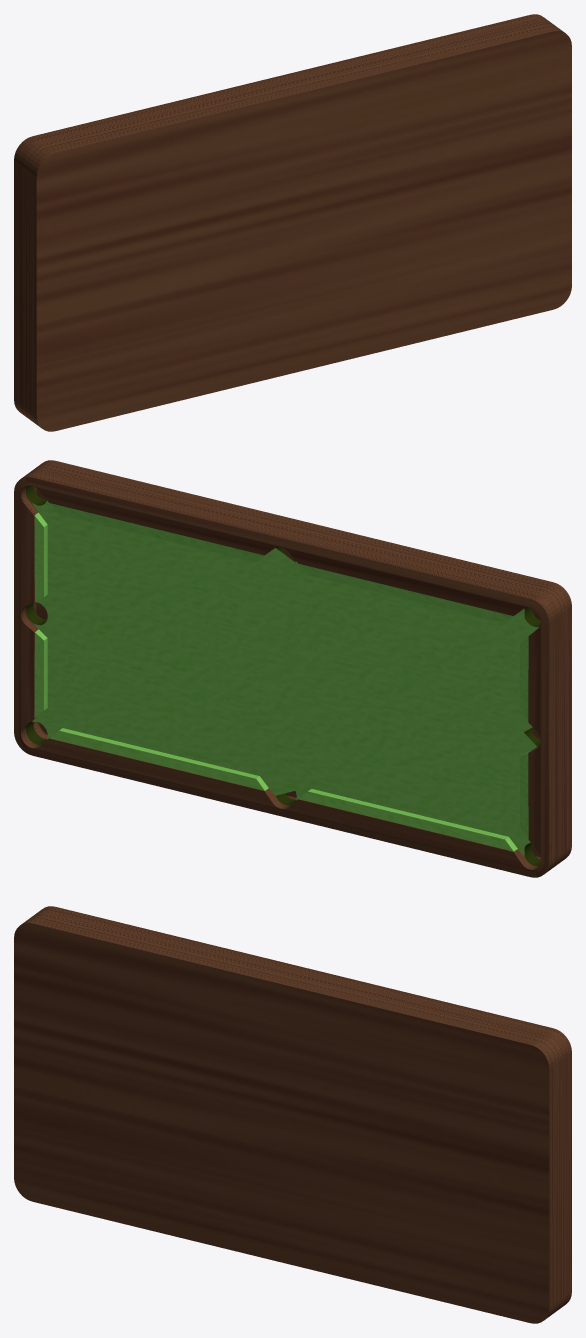
Rendered from Billiard_Table_10_28fbx.fbx.
The picture shows the model from 3 angles, top to bottom: view 1: azimuth 30°, elevation 25°; view 2: azimuth 150°, elevation 25°; view 3: azimuth 330°, elevation 25°; orthographic projection.
Parts seen in each view (by area): view 1: base.001; view 2: base, base.001, base.002; view 3: base.001.
Boxes of the visible parts, x1=… form: base.001: x1=14, y1=14, x2=571, y2=431; base: x1=32, y1=500, x2=538, y2=855; base.001: x1=14, y1=460, x2=571, y2=877; base.002: x1=26, y1=485, x2=540, y2=866; base.001: x1=14, y1=906, x2=571, y2=1323.
Bounding box in the file's own units: 6363 × 3162 × 484.
